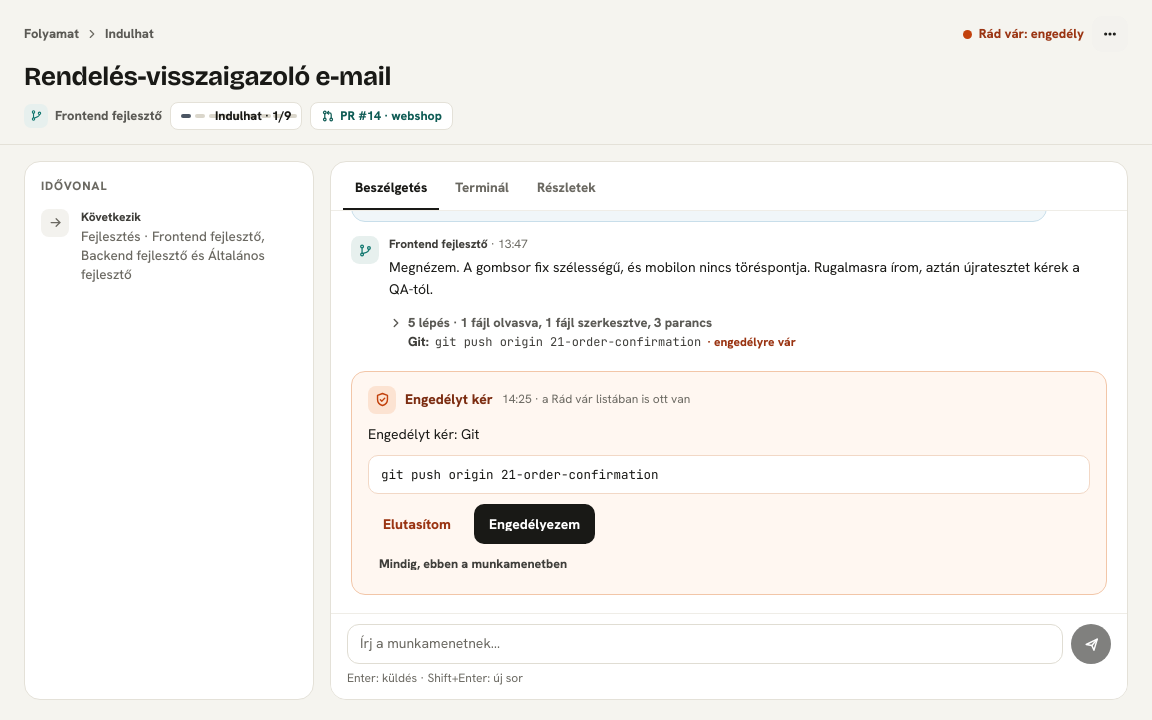
Test case: session header › opens a queued task in the full card view from its desktop heading
The width and height of the screenshot is (1152, 720).
(page scrolled)
Click the link "Rendelés-visszaigazoló e-mail" at (208, 76), box [24,61,391,92]
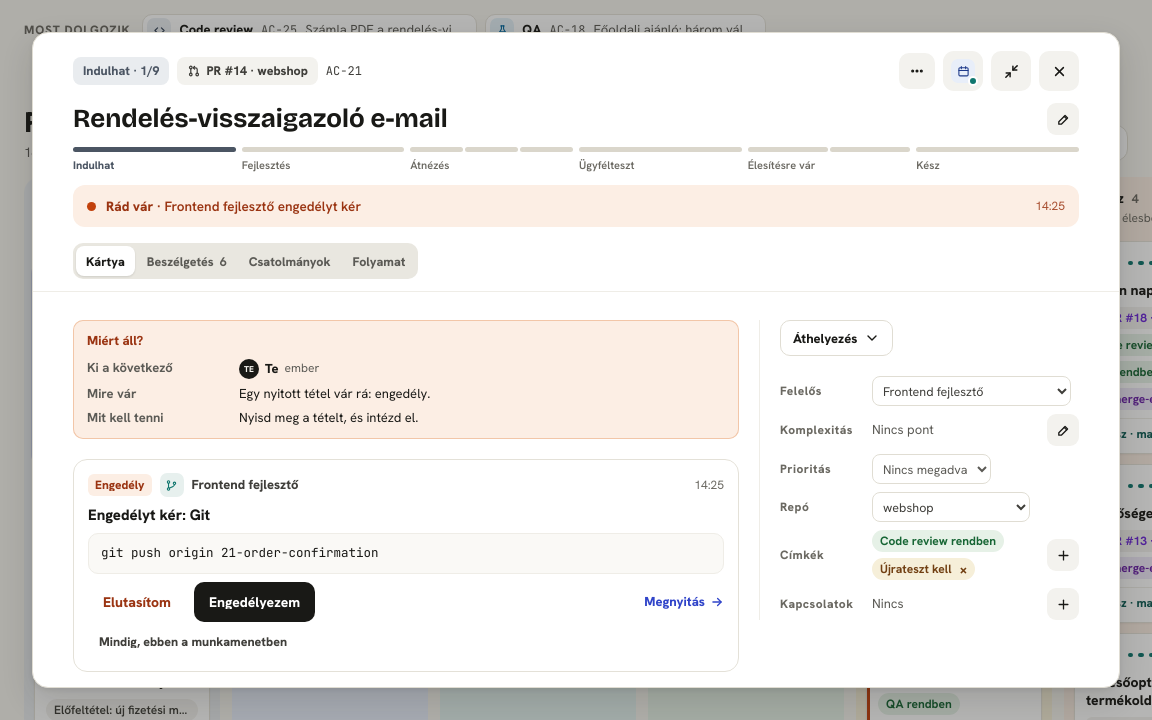
Expected: the heading "Rendelés-visszaigazoló e-mail" is shown, [73,103,448,134]
